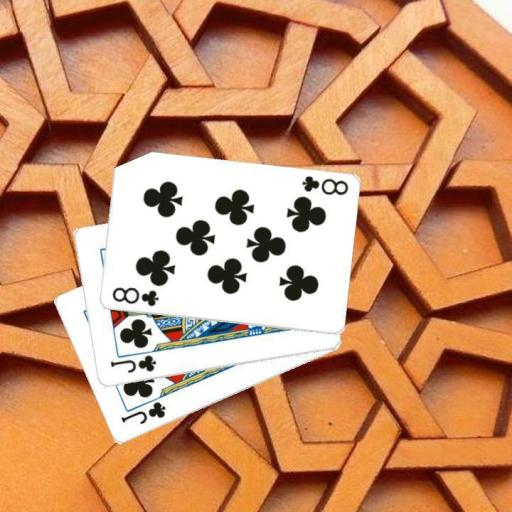card-corner: (117, 399, 167, 427), (108, 284, 160, 308), (298, 173, 350, 197), (107, 352, 157, 375)
